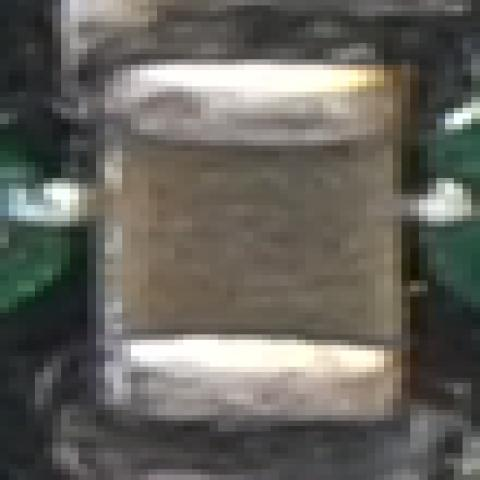Capacitor: (80, 60, 413, 432)
